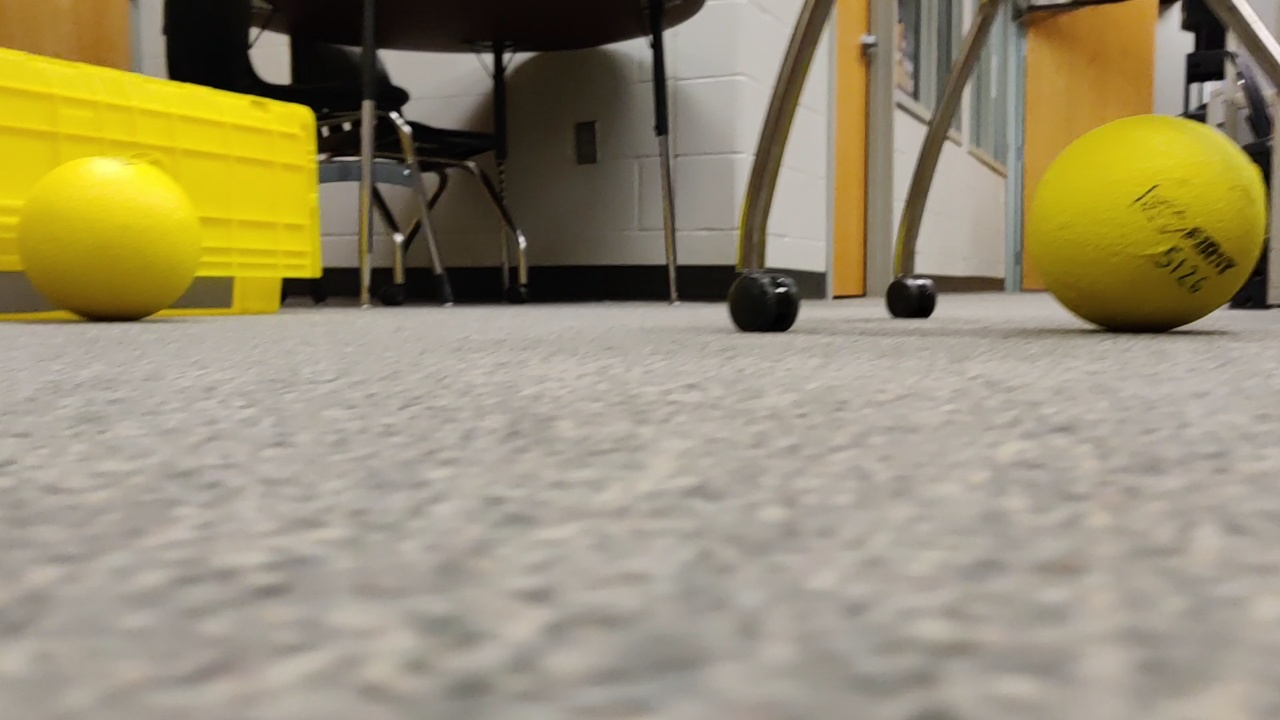Ball: (1015, 110, 1269, 336), (17, 154, 211, 319)
